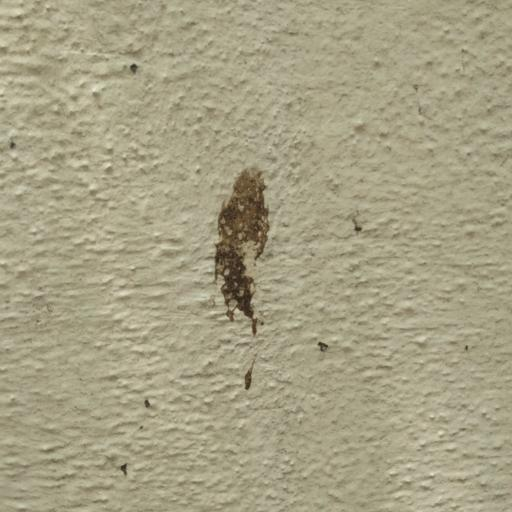stain: (177, 148, 380, 411), (112, 391, 164, 459), (0, 123, 29, 162), (116, 54, 148, 84)
